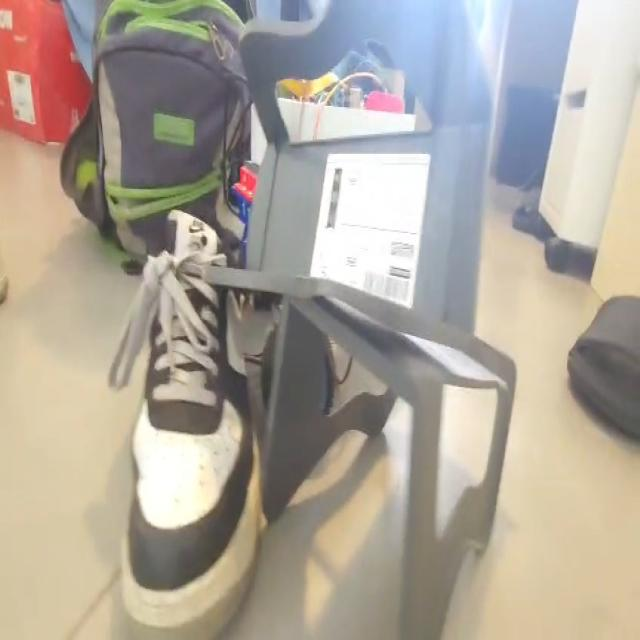Robot: (230, 78, 418, 275)
